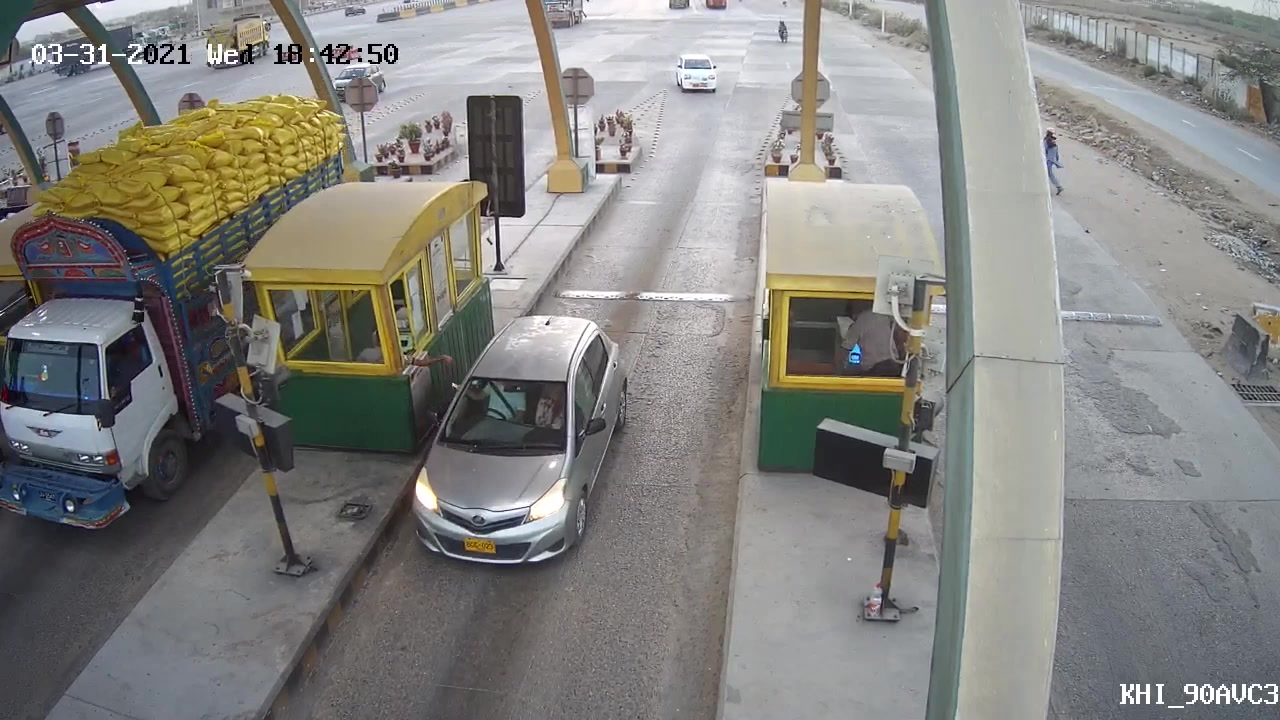F1: (376, 306, 641, 568)
